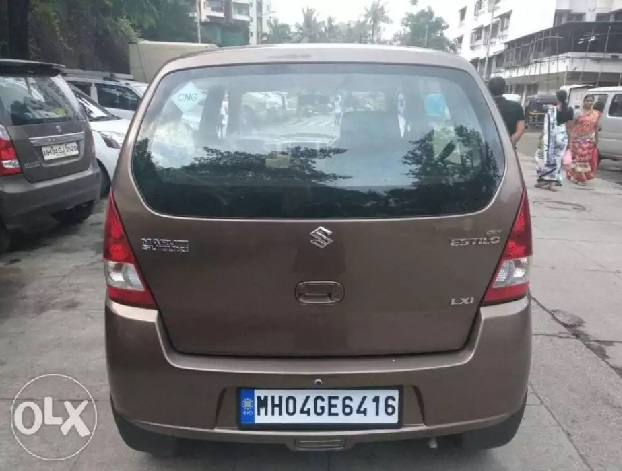licenseplate: (234, 385, 405, 429)
